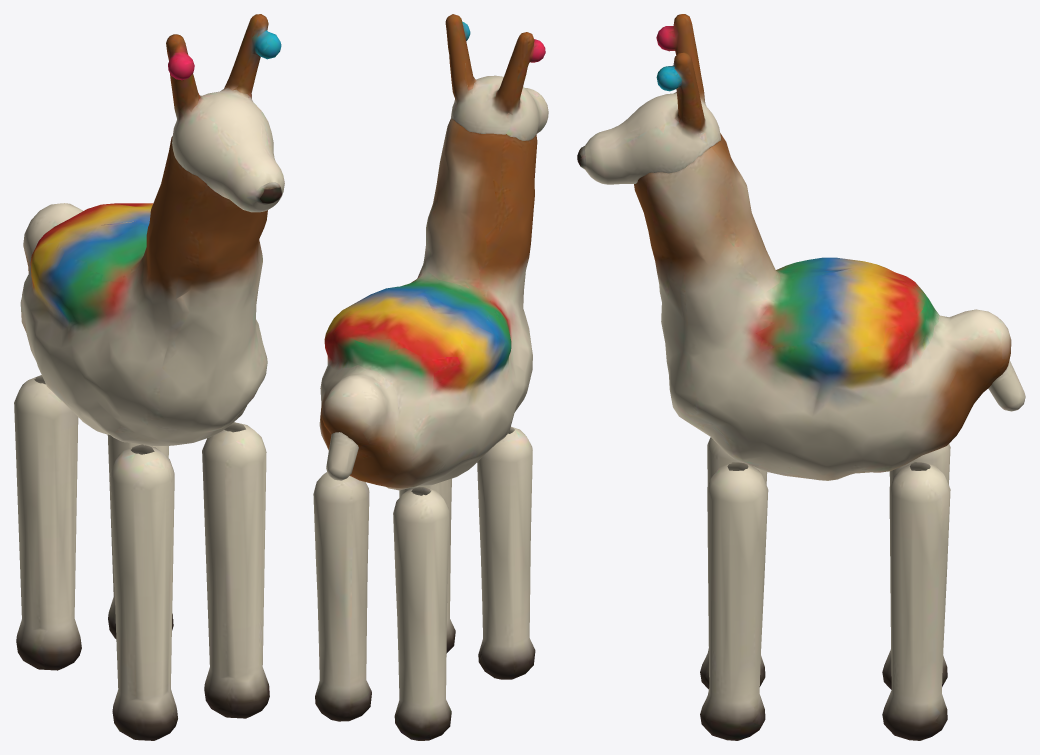
File: animal_llama.glb
3 views of the same model, side by side, from view 1: azimuth 30°, elevation 25°; view 2: azimuth 150°, elevation 25°; view 3: azimuth 270°, elevation 25° (orthographic). The views are drawn at different scales.
Visible parts, largest first — view 1: animal_llama, leg0, leg1, leg2, head, leg3; view 2: animal_llama, leg2, leg3, leg0, head, tail, leg1; view 3: animal_llama, leg3, leg1, head, leg2, tail, leg0.
Boxes of the visible parts, x1,y1,x2,y2 form: animal_llama: (20,136,267,445); leg0: (110,444,177,740); leg1: (202,422,269,718); leg2: (14,375,81,670); head: (166,14,284,212); leg3: (107,434,173,638); animal_llama: (319,118,537,490); leg2: (393,487,451,740); leg3: (313,472,371,721); leg0: (477,426,535,679); head: (445,14,548,140); tail: (326,432,358,480); leg1: (399,478,455,653); animal_llama: (634,133,1011,480); leg3: (882,462,950,740); leg1: (700,462,768,740); head: (577,14,720,184); leg2: (882,444,950,689); tail: (988,360,1025,411); leg0: (700,437,767,689).
Bounding box in the file's own units: 0.2192 × 0.8259 × 0.492.
1 material, 1 textured.
